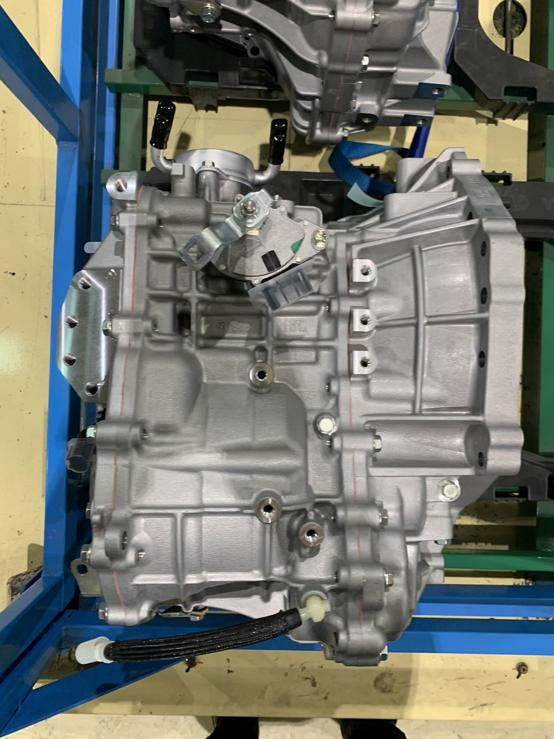gearbox_type1: (60, 143, 525, 667)
gearbox_type1_FP1: (346, 254, 379, 294)
gearbox_type1_FP2: (349, 305, 377, 340)
gearbox_type1_FP3: (103, 167, 141, 204)
